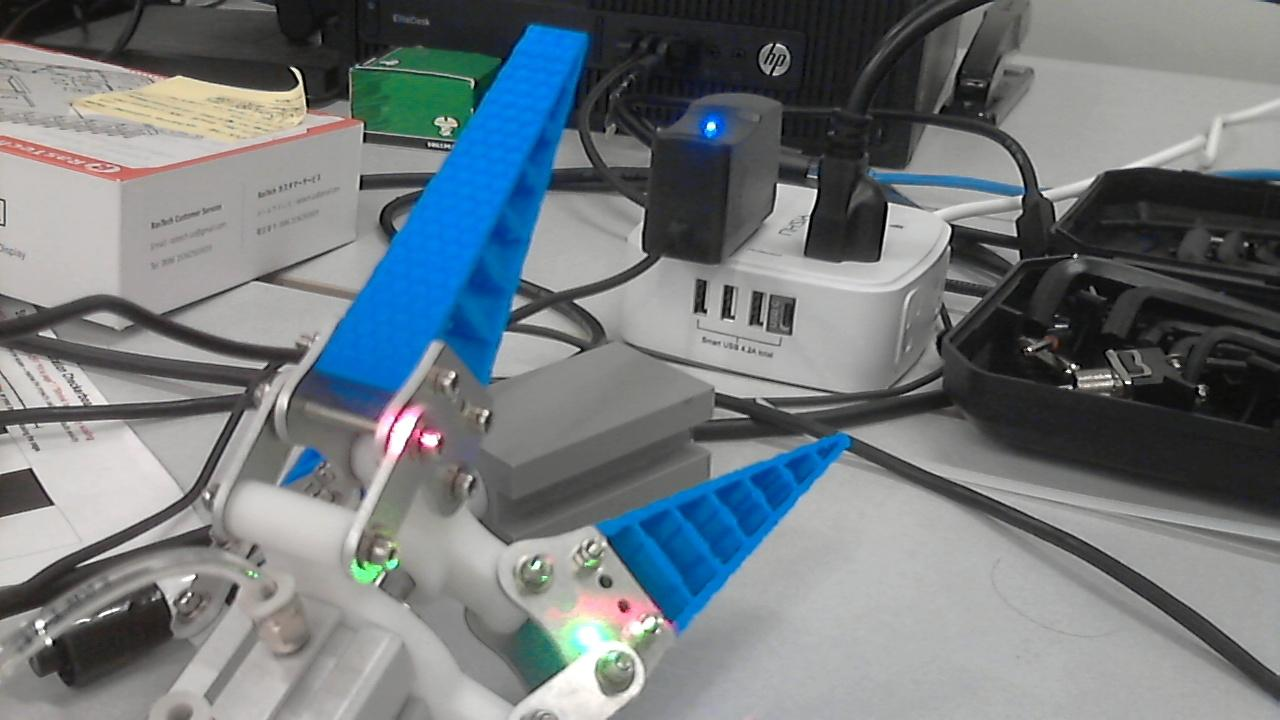Object robotic gripper finger assembly - Material metal - Pdfname Yy6dySnH33wN: (530, 596, 673, 659)
